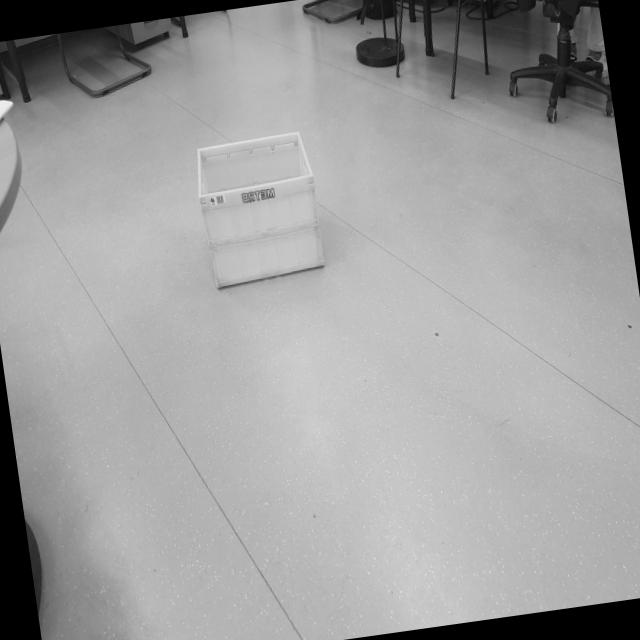box: (181, 110, 335, 303)
